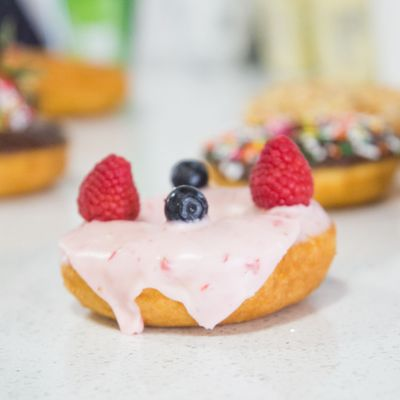salad: (239, 75, 400, 208)
sushi: (56, 123, 341, 334)
